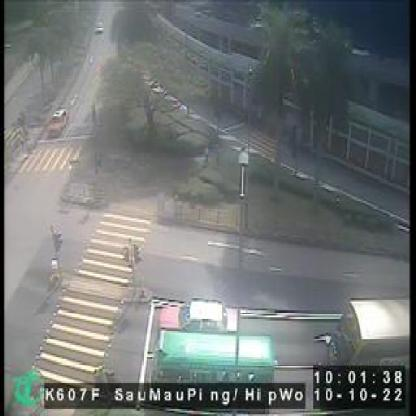Bus: (145, 330, 279, 392)
Car: (318, 300, 410, 366), (158, 299, 239, 330), (49, 107, 68, 135), (94, 19, 104, 32)
